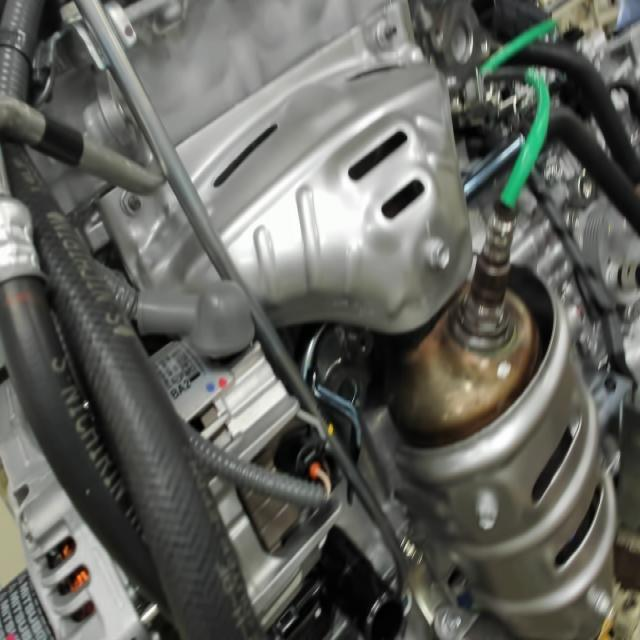Alternator-BA2: (168, 362, 196, 403)
Hose Discharge-HT: (31, 106, 90, 177)
